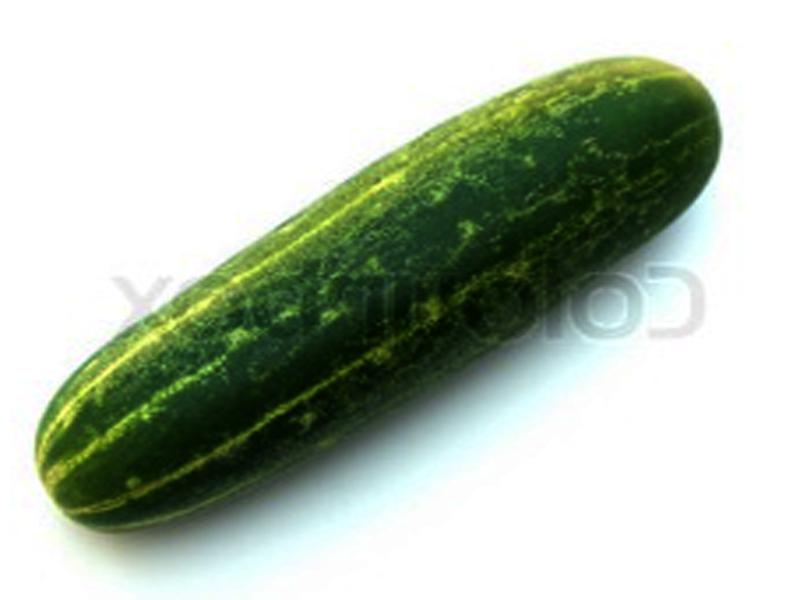Cucumber: (31, 53, 718, 529)
